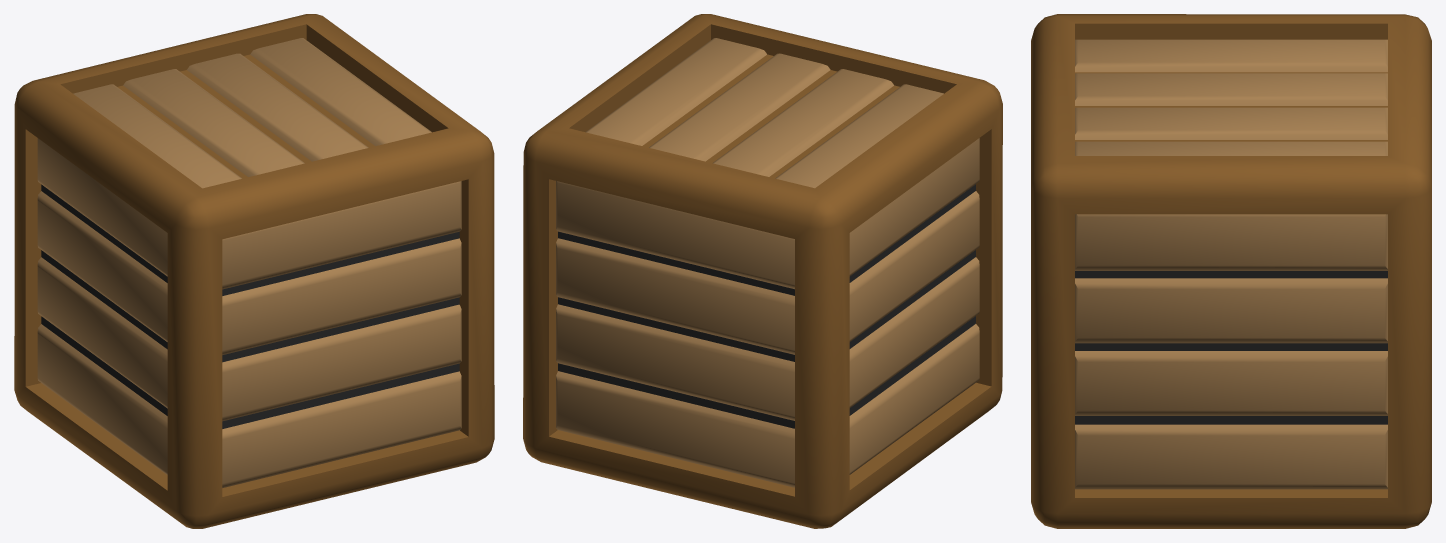
3 renders of one model, left to right at view 1: azimuth 30°, elevation 25°; view 2: azimuth 150°, elevation 25°; view 3: azimuth 270°, elevation 25°, orthographic. The views are drawn at different scales.
Visible parts, largest first — view 1: Box_5; view 2: Box_5; view 3: Box_5.
Boxes of the visible parts, box(x1,y1,x2,y2) form: Box_5: box(14, 14, 494, 528); Box_5: box(523, 14, 1002, 528); Box_5: box(1031, 14, 1431, 528).
Size of the model in its own units: 0.3772 by 0.3772 by 0.3772.
